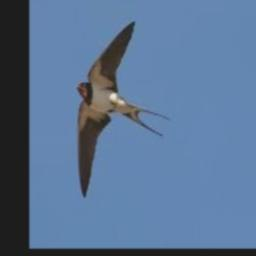Swallow: (75, 21, 170, 198)
